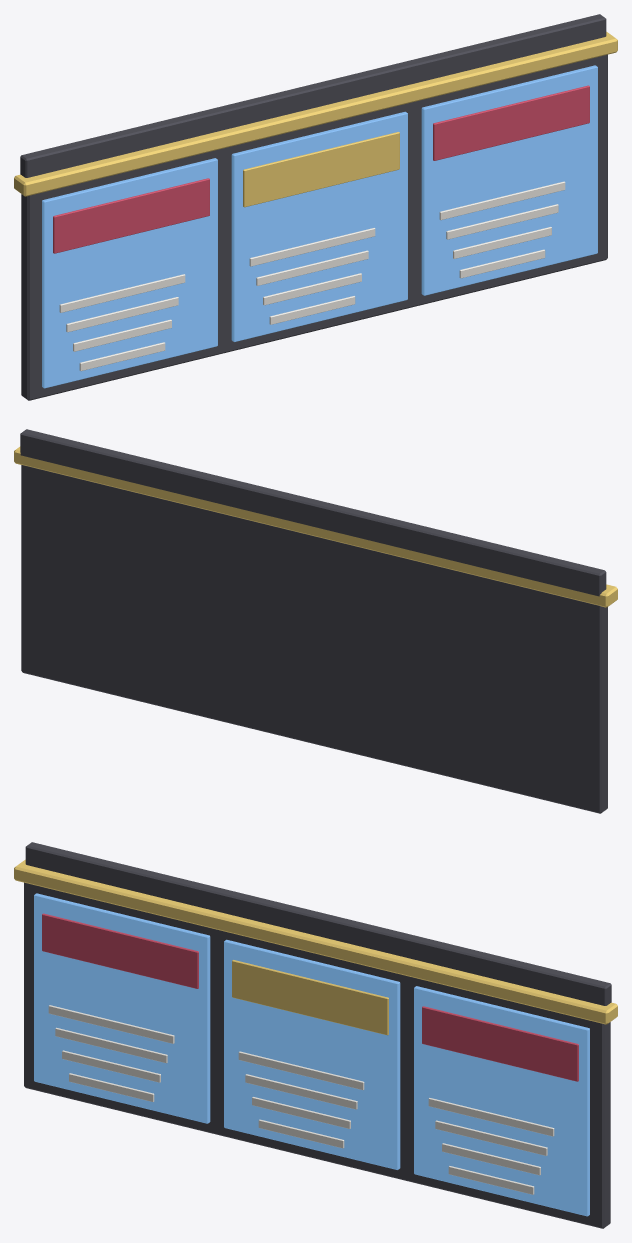
Rendered from monitor.glb.
3 views of the same model, one above another, from view 1: azimuth 30°, elevation 25°; view 2: azimuth 150°, elevation 25°; view 3: azimuth 330°, elevation 25° (orthographic).
Visible parts, largest first — view 1: menu-board-bank; view 2: menu-board-bank; view 3: menu-board-bank.
Part boxes in pixels (box(x1,y1,x2,y2)): menu-board-bank: box(14, 14, 617, 400); menu-board-bank: box(14, 429, 617, 813); menu-board-bank: box(14, 842, 617, 1228).
Bounding box in the file's own units: 2.66 × 1.03 × 0.0943.
